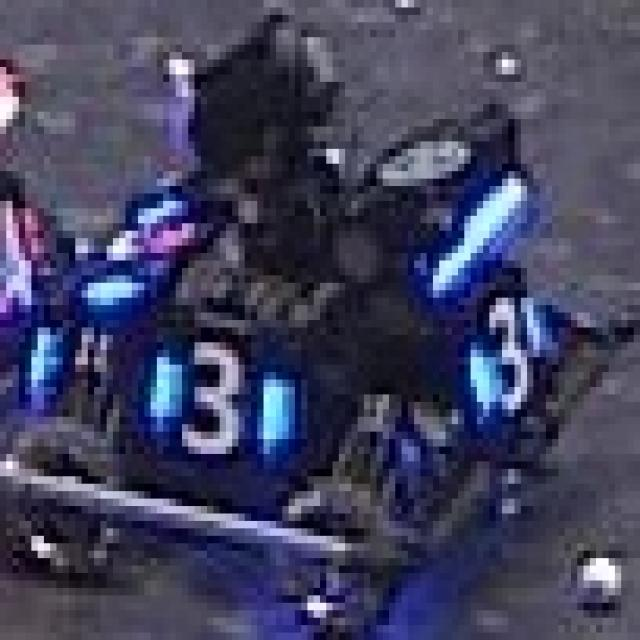B3: (138, 335, 282, 446), (458, 283, 540, 417)
